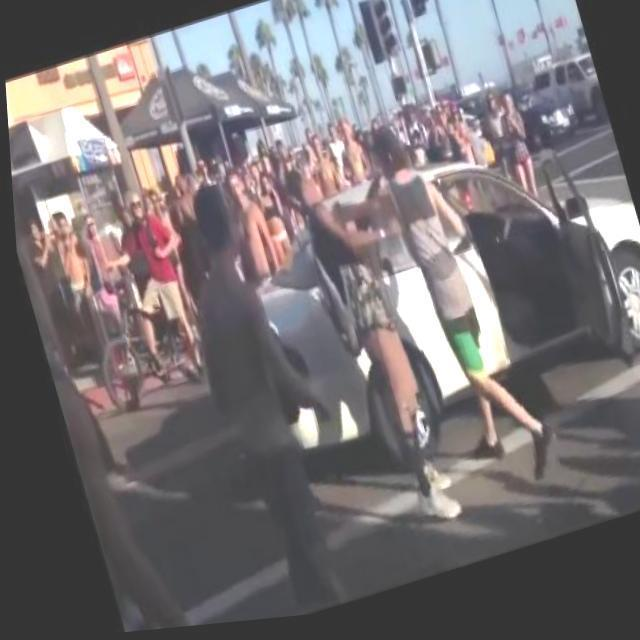fight: (276, 109, 538, 557)
